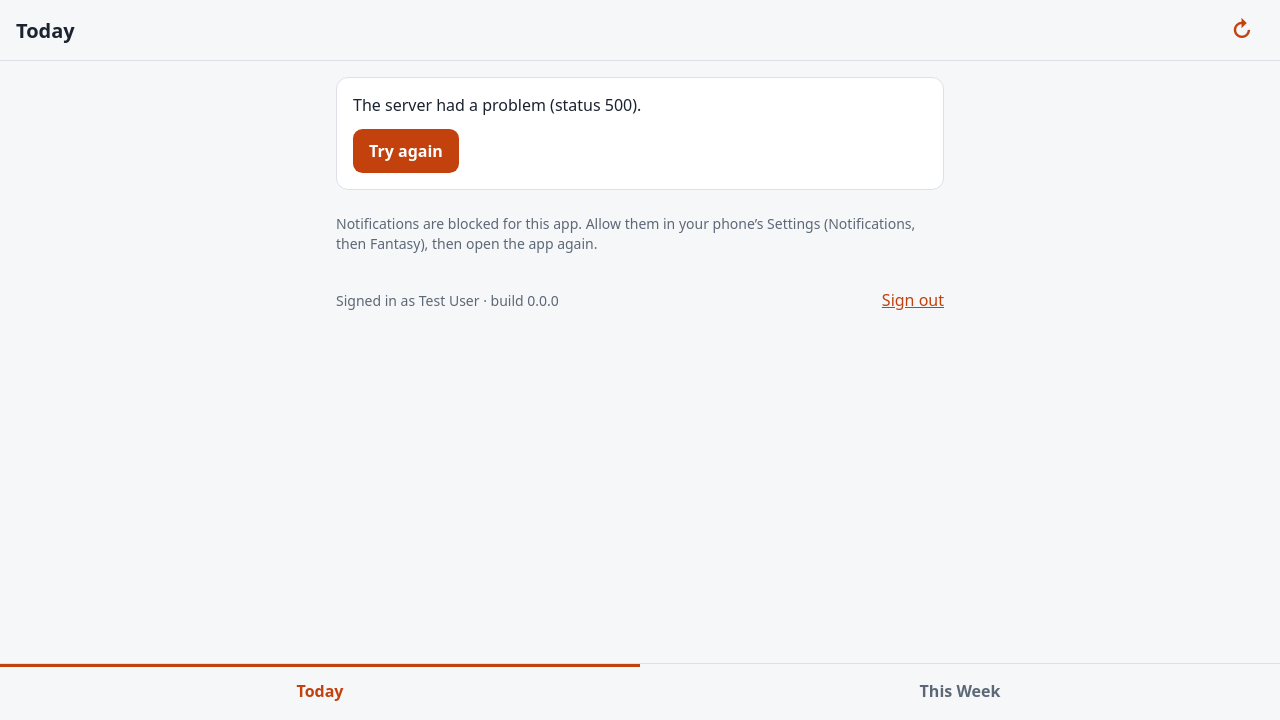
it: when something is wrong › offers a retry on a tab whose report could not load, while the other tab still works
Expected: the message shows "status 500", [353,94,641,116]
Click the link "This Week": (960,691) [920,680,1000,702]
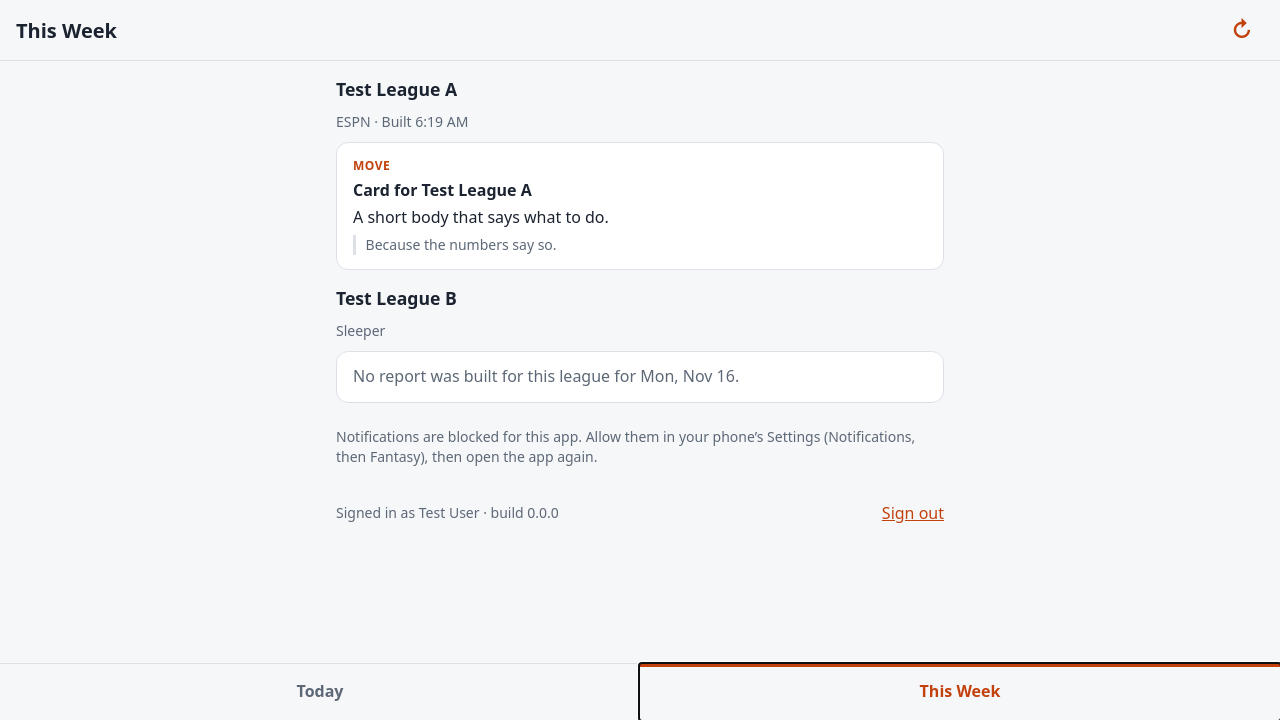
Result: the heading "Card for Test League A" is shown at [353,179,532,201]
